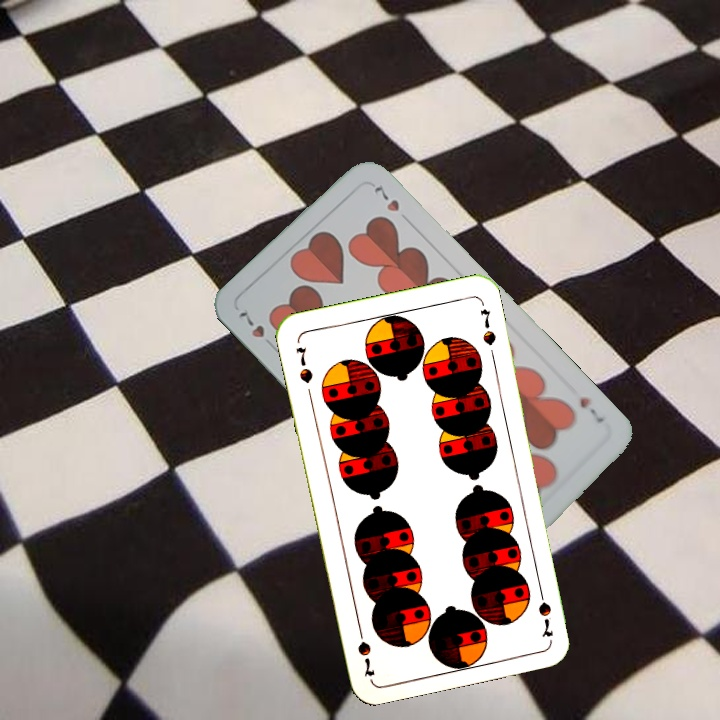H7: (234, 305, 279, 353), (575, 392, 607, 426)
S7: (534, 582, 556, 640), (292, 343, 316, 386)
